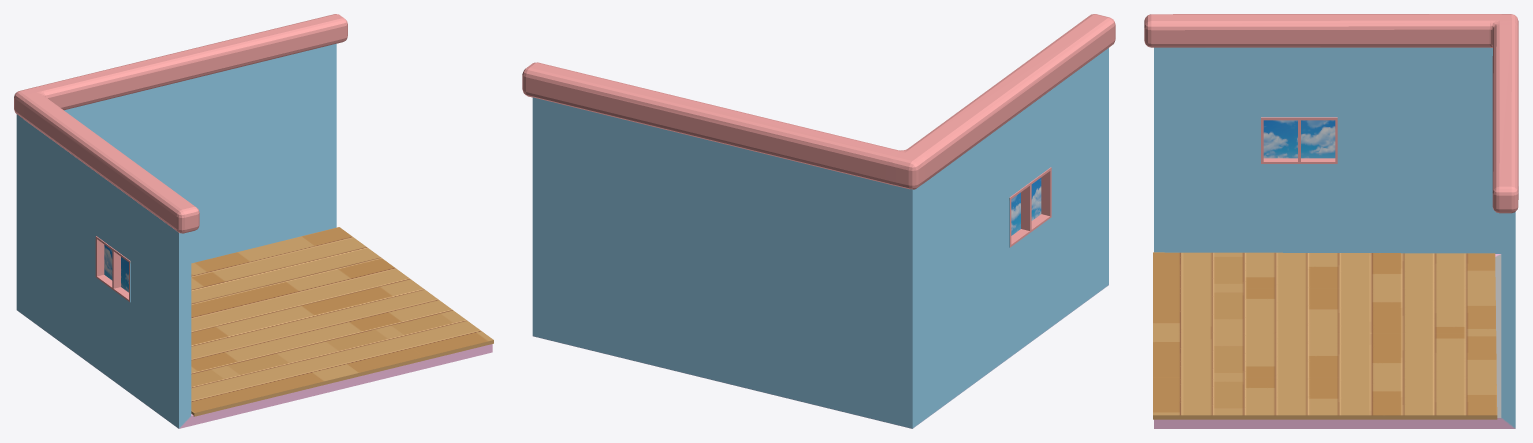
File: Wall.fbx
The picture shows the model from 3 angles, left to right: view 1: azimuth 30°, elevation 25°; view 2: azimuth 150°, elevation 25°; view 3: azimuth 270°, elevation 25°; orthographic projection. The views are drawn at different scales.
Visible parts, largest first — view 1: polySurface857, polySurface854, polySurface856, polySurface853, polySurface852; view 2: polySurface857, polySurface856, polySurface853, polySurface852; view 3: polySurface857, polySurface854, polySurface856, polySurface852, polySurface853.
Boxes of the visible parts, x1=… form: polySurface857: x1=16, y1=43, x2=492, y2=428; polySurface854: x1=191, y1=227, x2=493, y2=416; polySurface856: x1=14, y1=14, x2=347, y2=233; polySurface853: x1=95, y1=236, x2=130, y2=302; polySurface852: x1=104, y1=244, x2=128, y2=292; polySurface857: x1=532, y1=48, x2=1108, y2=428; polySurface856: x1=522, y1=14, x2=1115, y2=189; polySurface853: x1=1009, y1=167, x2=1051, y2=247; polySurface852: x1=1011, y1=178, x2=1041, y2=235; polySurface857: x1=1154, y1=47, x2=1515, y2=428; polySurface854: x1=1153, y1=252, x2=1497, y2=419; polySurface856: x1=1144, y1=14, x2=1518, y2=213; polySurface852: x1=1263, y1=120, x2=1335, y2=158; polySurface853: x1=1261, y1=117, x2=1337, y2=163.
Size of the model in its own units: 262 by 168 by 233.
1 material, 1 textured.
